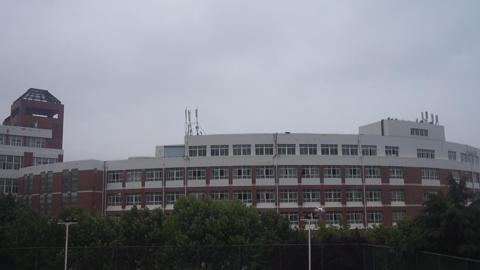UAV: (314, 206, 326, 214)
